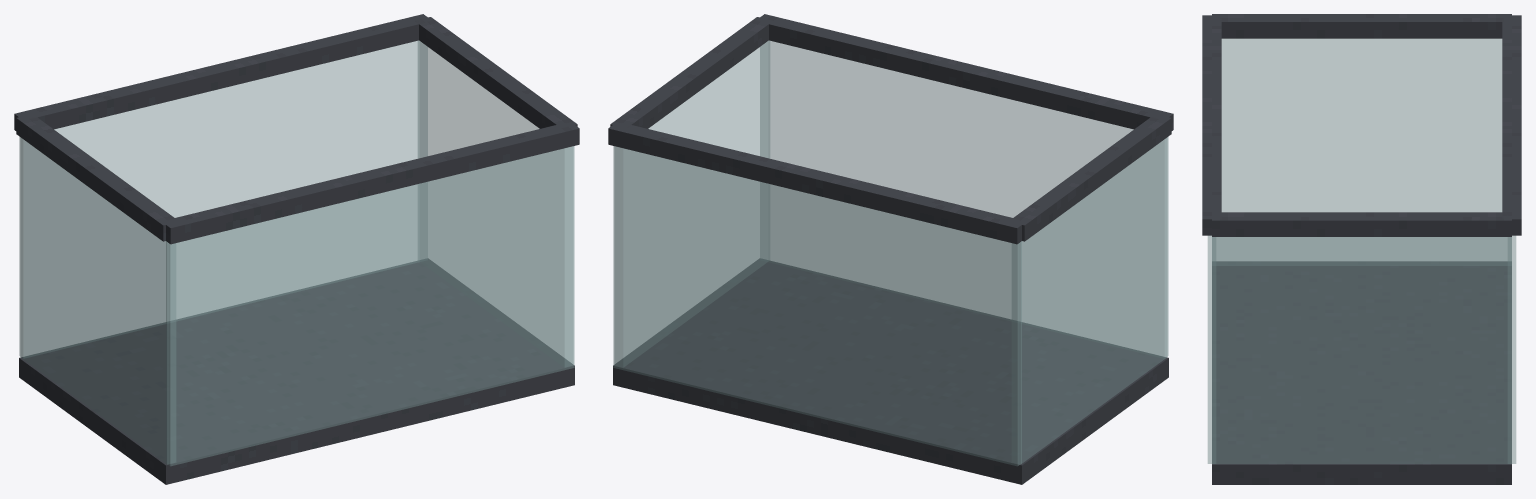
The model's file is aquarium_medium.glb.
The picture shows the model from 3 angles, left to right: view 1: azimuth 30°, elevation 25°; view 2: azimuth 150°, elevation 25°; view 3: azimuth 270°, elevation 25°; orthographic projection. The views are drawn at different scales.
Visible parts, largest first — view 1: block_glass wall (×2), block_bottom frame, block_glass end (×2), block_upper frame (×2), block_upper end (×2); view 2: block_glass wall (×2), block_bottom frame, block_glass end (×2), block_upper frame (×2), block_upper end (×2); view 3: block_glass end (×2), block_bottom frame, block_upper end (×2), block_upper frame (×2), block_glass wall (×2).
Boxes of the visible parts, x1=… form: block_glass wall (×2): x1=19, y1=40, x2=574, y2=466; block_bottom frame: x1=19, y1=258, x2=574, y2=484; block_glass end (×2): x1=20, y1=41, x2=573, y2=464; block_upper frame (×2): x1=14, y1=14, x2=579, y2=244; block_upper end (×2): x1=16, y1=17, x2=577, y2=241; block_glass wall (×2): x1=613, y1=40, x2=1168, y2=465; block_bottom frame: x1=613, y1=258, x2=1168, y2=484; block_glass end (×2): x1=614, y1=41, x2=1167, y2=464; block_upper frame (×2): x1=608, y1=14, x2=1173, y2=244; block_upper end (×2): x1=610, y1=17, x2=1171, y2=241; block_glass end (×2): x1=1212, y1=38, x2=1511, y2=463; block_bottom frame: x1=1212, y1=261, x2=1511, y2=484; block_upper end (×2): x1=1212, y1=14, x2=1511, y2=236; block_upper frame (×2): x1=1202, y1=15, x2=1521, y2=235; block_glass wall (×2): x1=1207, y1=235, x2=1516, y2=463.
Size of the model in its own units: 0.91 by 0.5458 by 0.5947.
2 materials, 2 textured.
